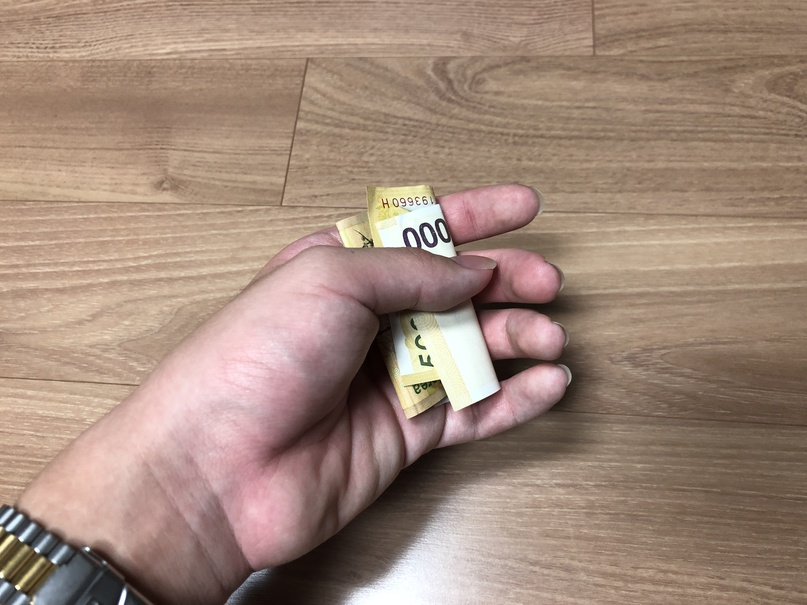50000won: (334, 184, 502, 420)
